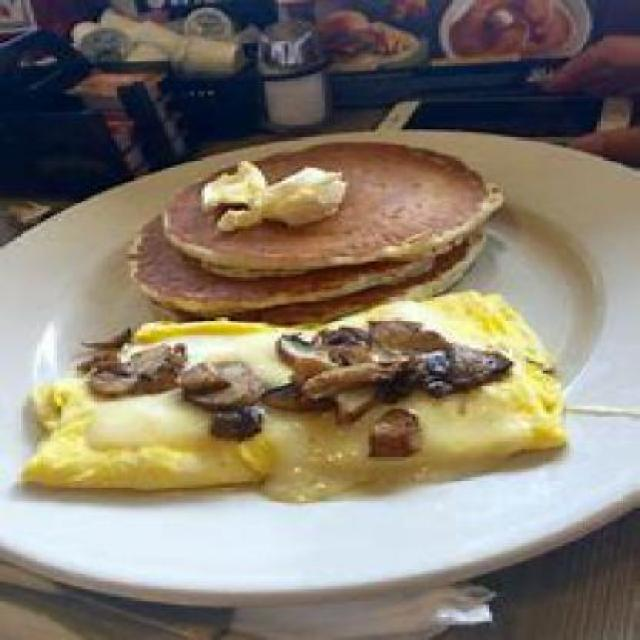omelette: (17, 299, 577, 490)
pancakes: (110, 134, 513, 306)
